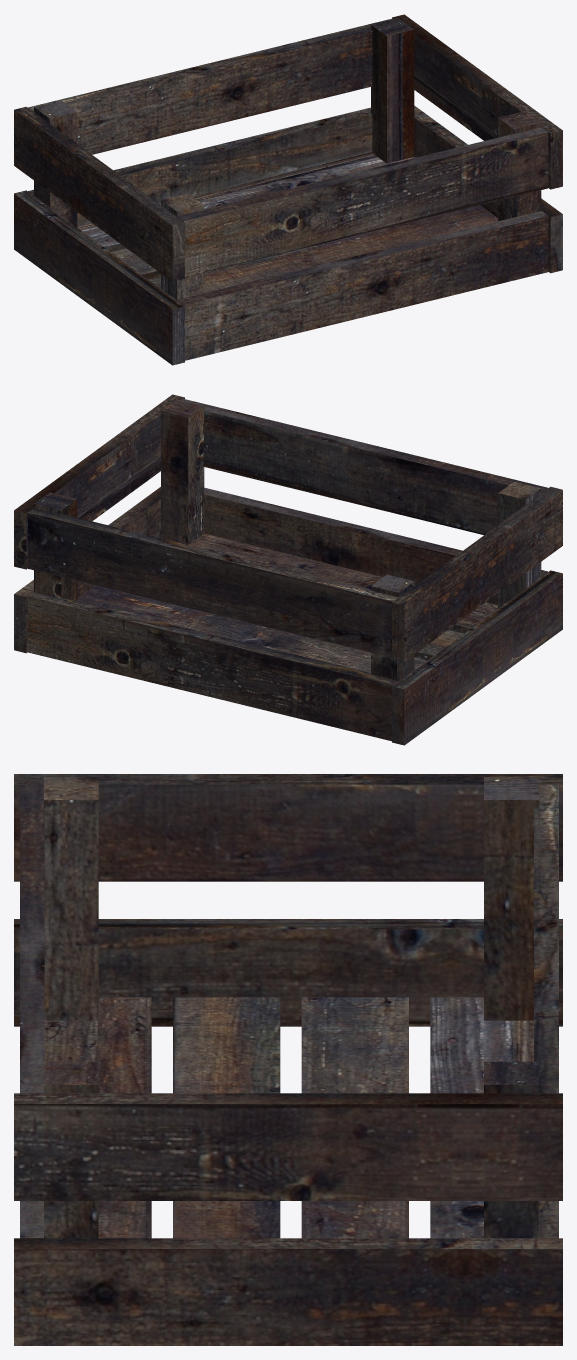
The model's file is emptycrate.fbx.
3 renders of one model, top to bottom at view 1: azimuth 30°, elevation 25°; view 2: azimuth 150°, elevation 25°; view 3: azimuth 270°, elevation 25°, orthographic. The views are drawn at different scales.
Parts seen in each view (by area): view 1: Box; view 2: Box; view 3: Box.
Boxes of the visible parts, box(x1,y1,x2,y2) form: Box: box(14, 14, 562, 365); Box: box(14, 394, 562, 745); Box: box(14, 774, 562, 1345).
Size of the model in its own units: 0.6471 by 0.2288 by 0.4551.
1 material, 1 textured.
